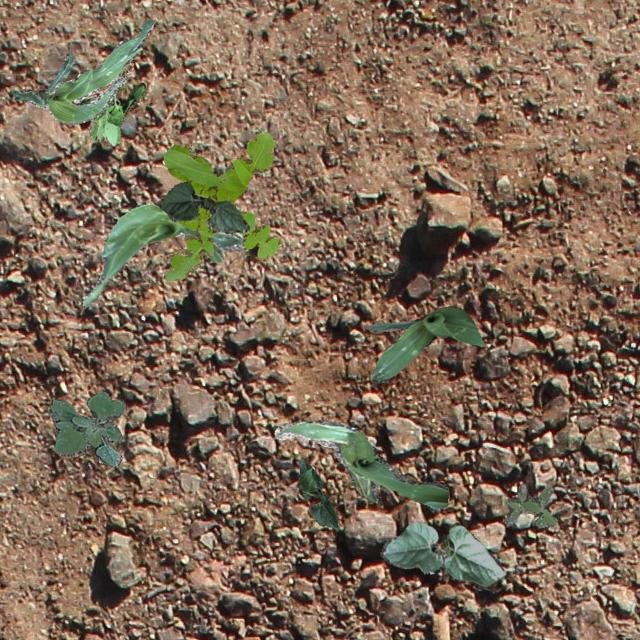crop: (82, 202, 246, 306), (274, 418, 448, 508), (12, 18, 154, 124), (366, 304, 484, 382), (380, 522, 504, 588), (158, 180, 248, 232), (298, 458, 338, 528)
weed: (162, 132, 280, 280), (48, 390, 124, 466), (80, 60, 146, 144), (504, 482, 556, 526)
